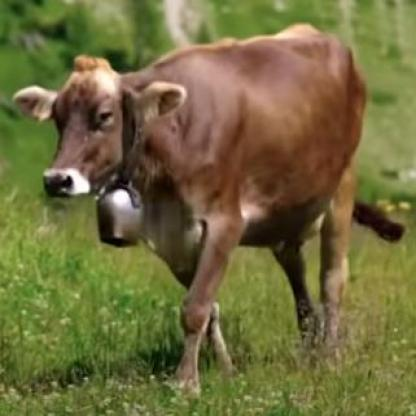cow: (13, 29, 367, 394)
